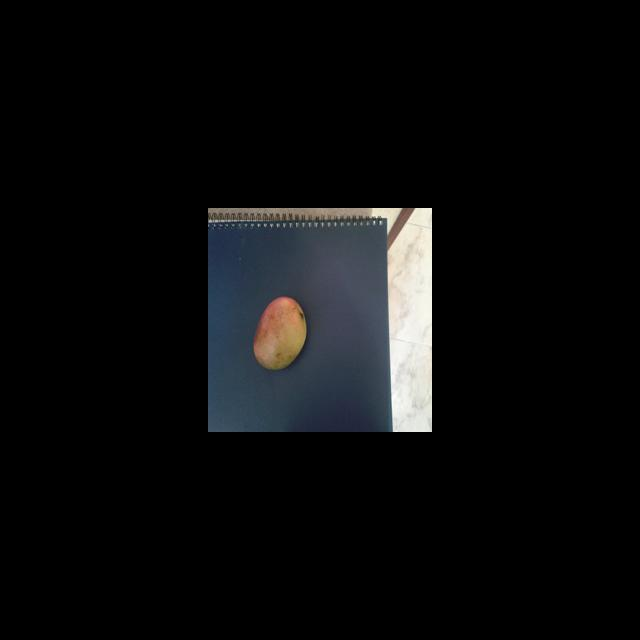Mango: (252, 295, 307, 370)
